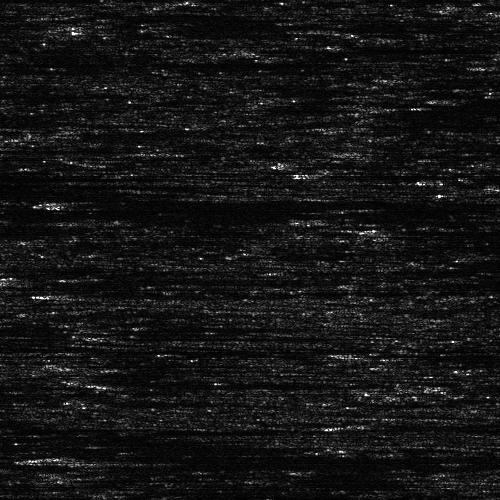object: (0, 196, 129, 207), (0, 454, 123, 465), (412, 180, 500, 193), (68, 330, 131, 339), (307, 167, 348, 180), (51, 289, 82, 296), (89, 379, 120, 384)
shadow: (51, 454, 500, 465), (62, 196, 469, 207), (100, 330, 261, 339), (328, 167, 414, 180), (67, 289, 147, 296), (104, 379, 186, 384)
